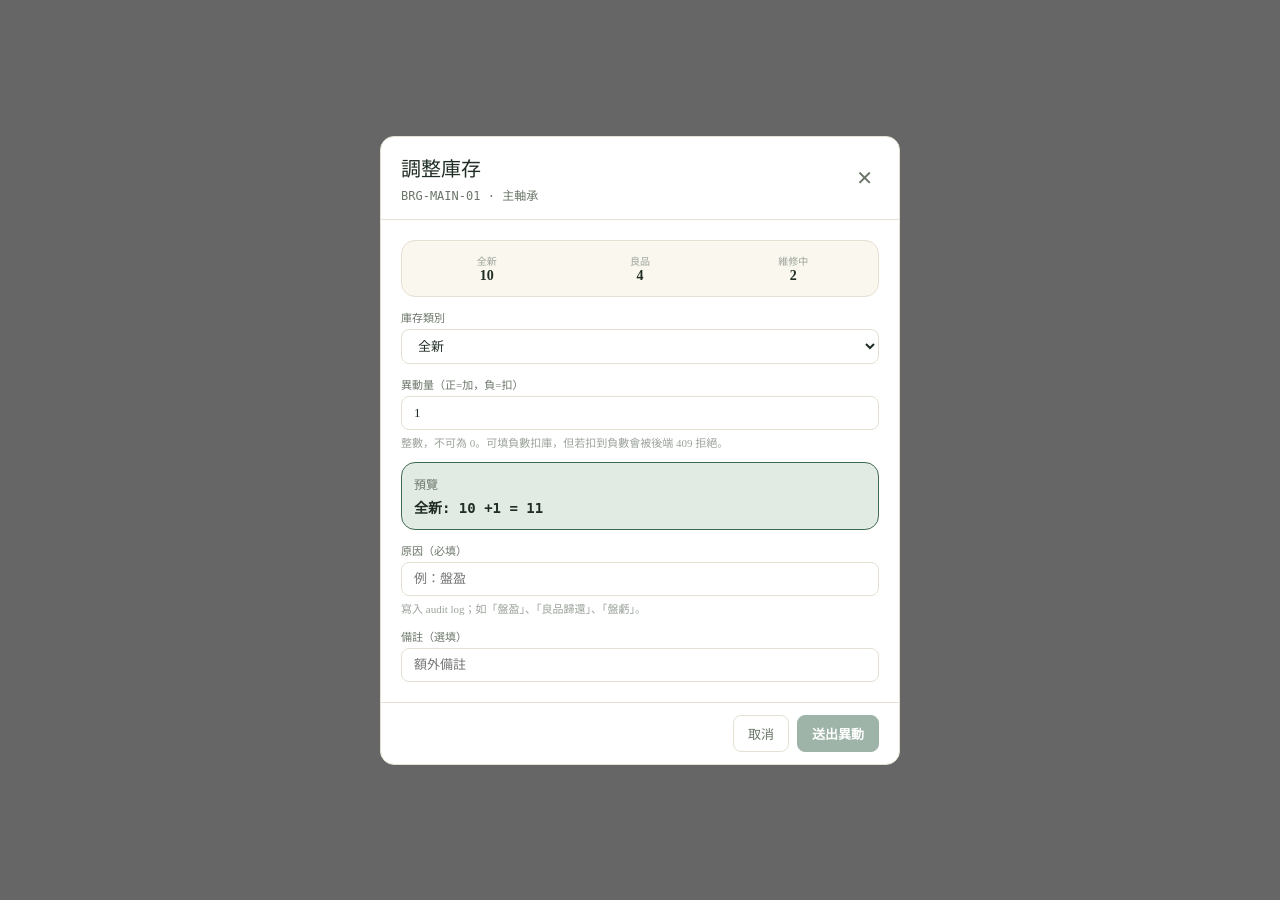
it: InventoryAdjustmentDialog 庫存調整對話框 › reason 必填：空 reason → 送出鈕 disabled；填入後 enabled
The width and height of the screenshot is (1280, 900).
Expected: the button "送出異動" is disabled, [797,714,879,752]
In the field named "異動原因": x=640, y=578 [401,562,879,596], type "盤盈"
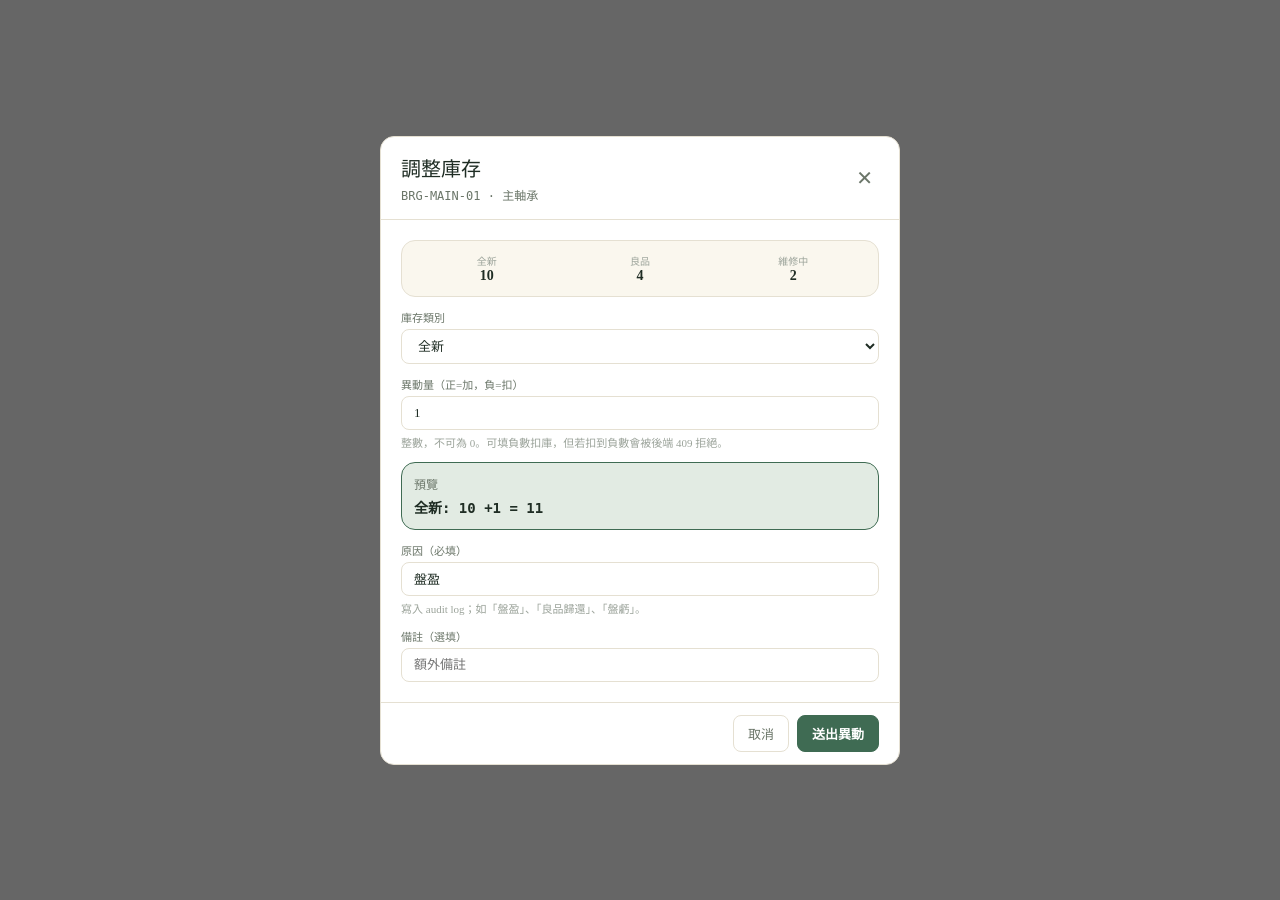
Now the button "送出異動" is enabled, box [797,714,879,752]
